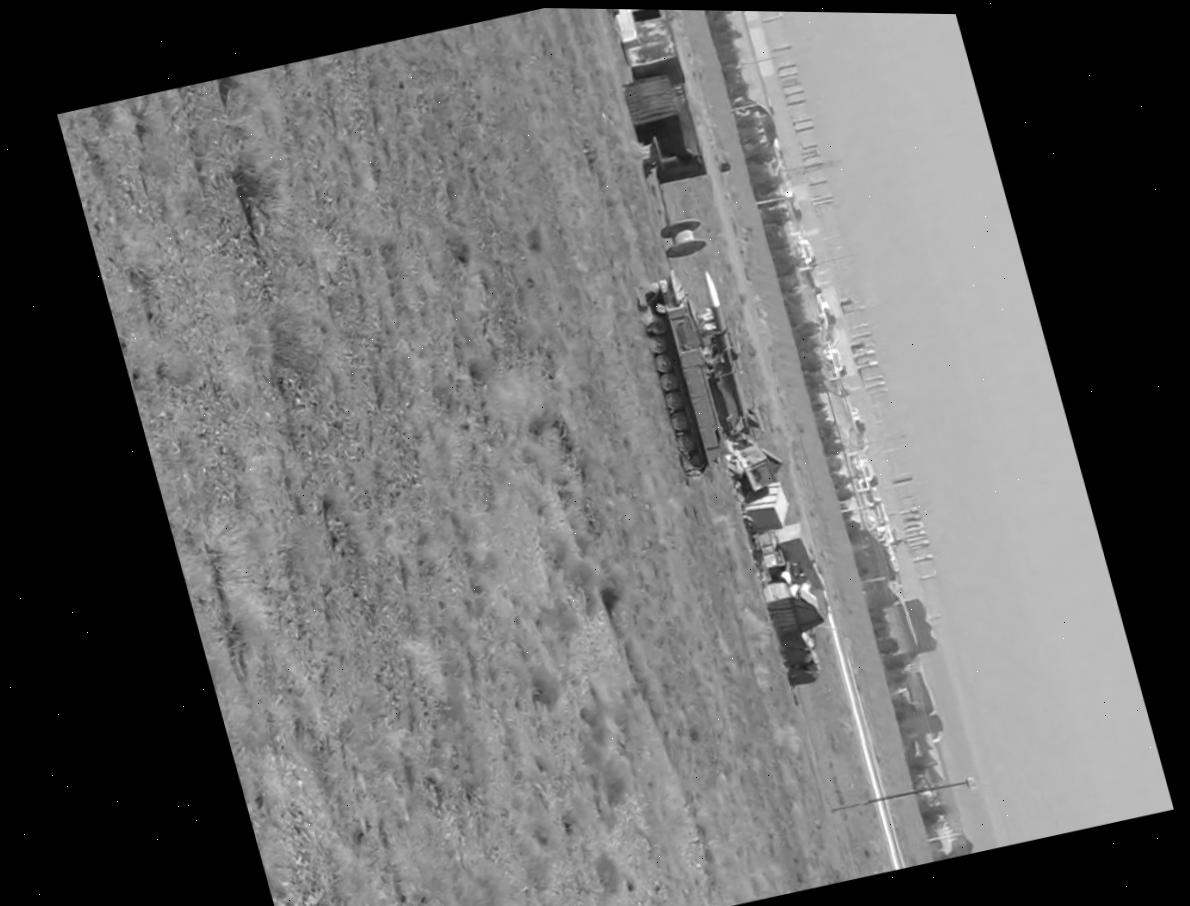armored_car: (629, 257, 778, 479)
